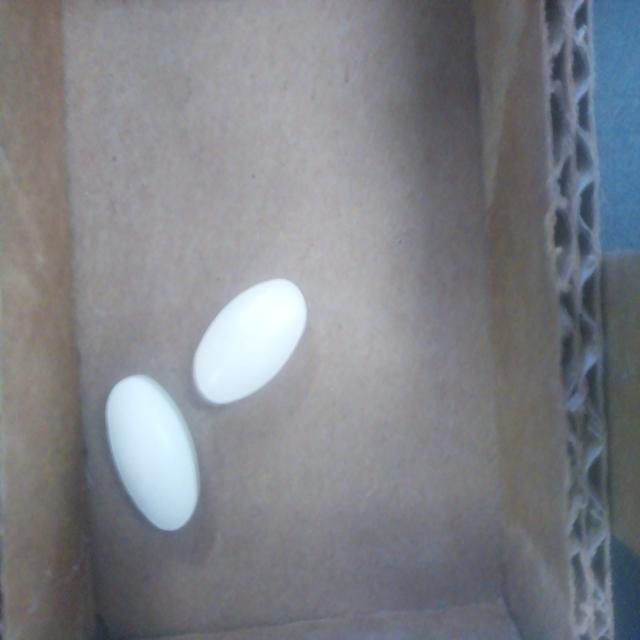pill: (105, 375, 199, 530), (193, 279, 307, 404)
